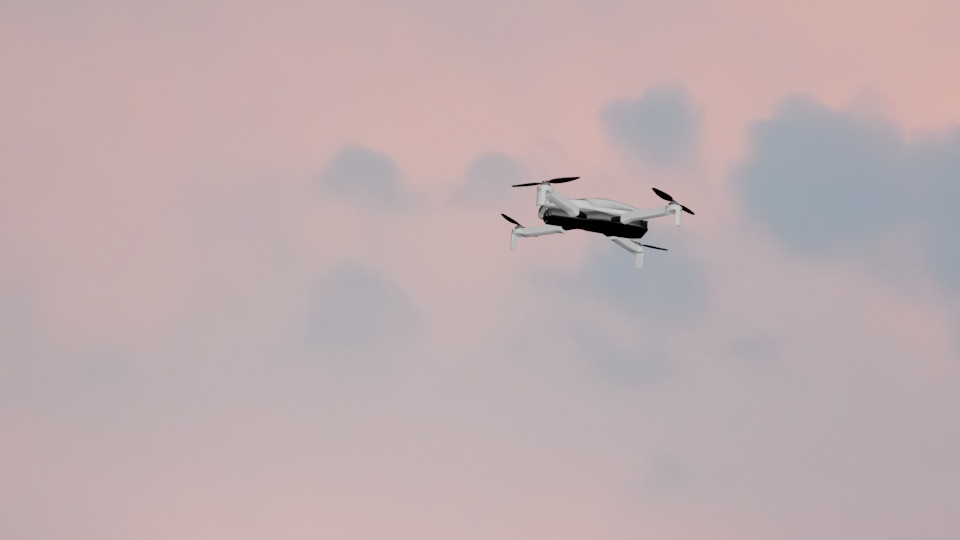drone: (500, 173, 694, 266)
